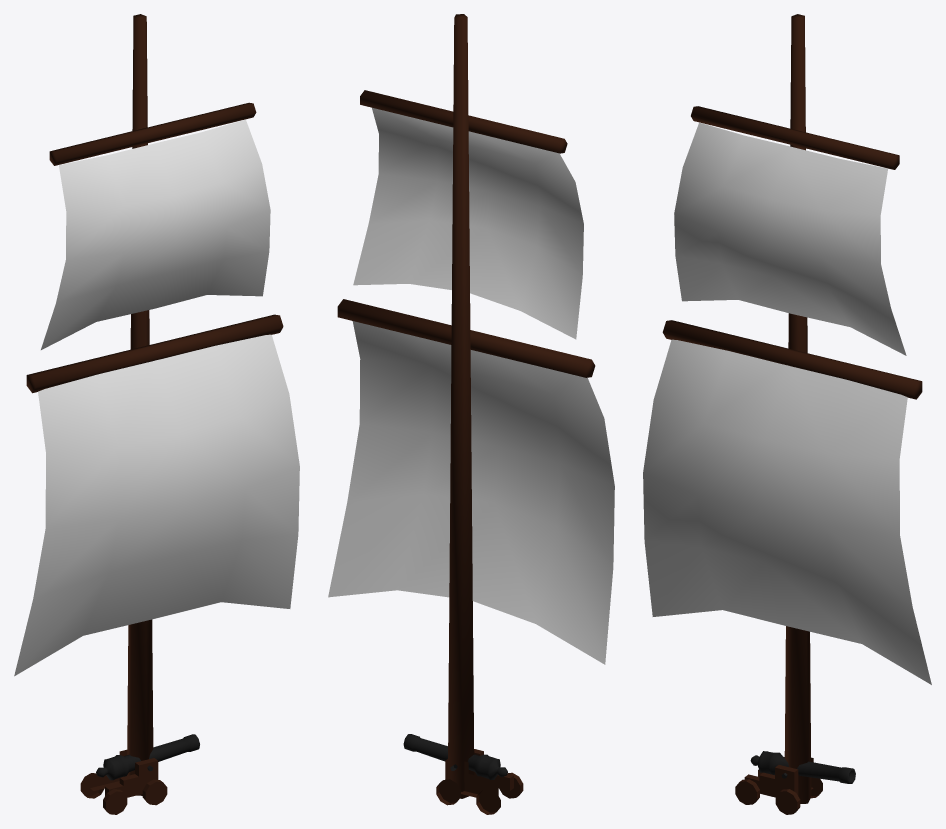
Rendered from mainmast.obj.
The picture shows the model from 3 angles, left to right: view 1: azimuth 30°, elevation 25°; view 2: azimuth 150°, elevation 25°; view 3: azimuth 330°, elevation 25°; orthographic projection.
Parts seen in each view (by area): view 1: Plane_Plane.001_SailCloth, Plane.001_Plane.001_SailCloth, Cylinder_Cylinder_Wood, Cylinder.001_Cylinder.001_Wood, Cylinder.002_Cylinder.001_Wood, CannonBarrel_Cylinder.002_Gunmetal, Cube.005_Cube.005_Wood; view 2: Plane_Plane.001_SailCloth, Plane.001_Plane.001_SailCloth, Cylinder_Cylinder_Wood, Cylinder.001_Cylinder.001_Wood, Cylinder.002_Cylinder.001_Wood, CannonBarrel_Cylinder.002_Gunmetal, Cube.006_Cube.005_Wood; view 3: Plane_Plane.001_SailCloth, Plane.001_Plane.001_SailCloth, Cylinder_Cylinder_Wood, Cylinder.001_Cylinder.001_Wood, Cylinder.002_Cylinder.001_Wood, CannonBarrel_Cylinder.002_Gunmetal, Cube.005_Cube.005_Wood, Cylinder.012_Cylinder.004_Wood.
Boxes of the visible parts, x1,y1,x2,y2 form: Plane_Plane.001_SailCloth: [14, 334, 299, 676]; Plane.001_Plane.001_SailCloth: [41, 119, 270, 349]; Cylinder_Cylinder_Wood: [127, 14, 153, 795]; Cylinder.001_Cylinder.001_Wood: [26, 314, 283, 393]; Cylinder.002_Cylinder.001_Wood: [49, 102, 256, 165]; CannonBarrel_Cylinder.002_Gunmetal: [96, 734, 199, 780]; Cube.005_Cube.005_Wood: [105, 758, 158, 797]; Plane_Plane.001_SailCloth: [328, 321, 614, 664]; Plane.001_Plane.001_SailCloth: [353, 107, 583, 339]; Cylinder_Cylinder_Wood: [448, 14, 474, 798]; Cylinder.001_Cylinder.001_Wood: [337, 299, 595, 377]; Cylinder.002_Cylinder.001_Wood: [360, 90, 567, 153]; CannonBarrel_Cylinder.002_Gunmetal: [403, 734, 507, 779]; Cube.006_Cube.005_Wood: [445, 759, 498, 797]; Plane_Plane.001_SailCloth: [643, 339, 931, 684]; Plane.001_Plane.001_SailCloth: [674, 122, 906, 355]; Cylinder_Cylinder_Wood: [784, 14, 811, 803]; Cylinder.001_Cylinder.001_Wood: [662, 320, 922, 399]; Cylinder.002_Cylinder.001_Wood: [691, 106, 899, 169]; CannonBarrel_Cylinder.002_Gunmetal: [750, 751, 855, 783]; Cube.005_Cube.005_Wood: [744, 765, 798, 797]; Cylinder.012_Cylinder.004_Wood: [775, 789, 800, 814].
Bounding box in the file's own units: 2 × 5.39 × 0.6537.
